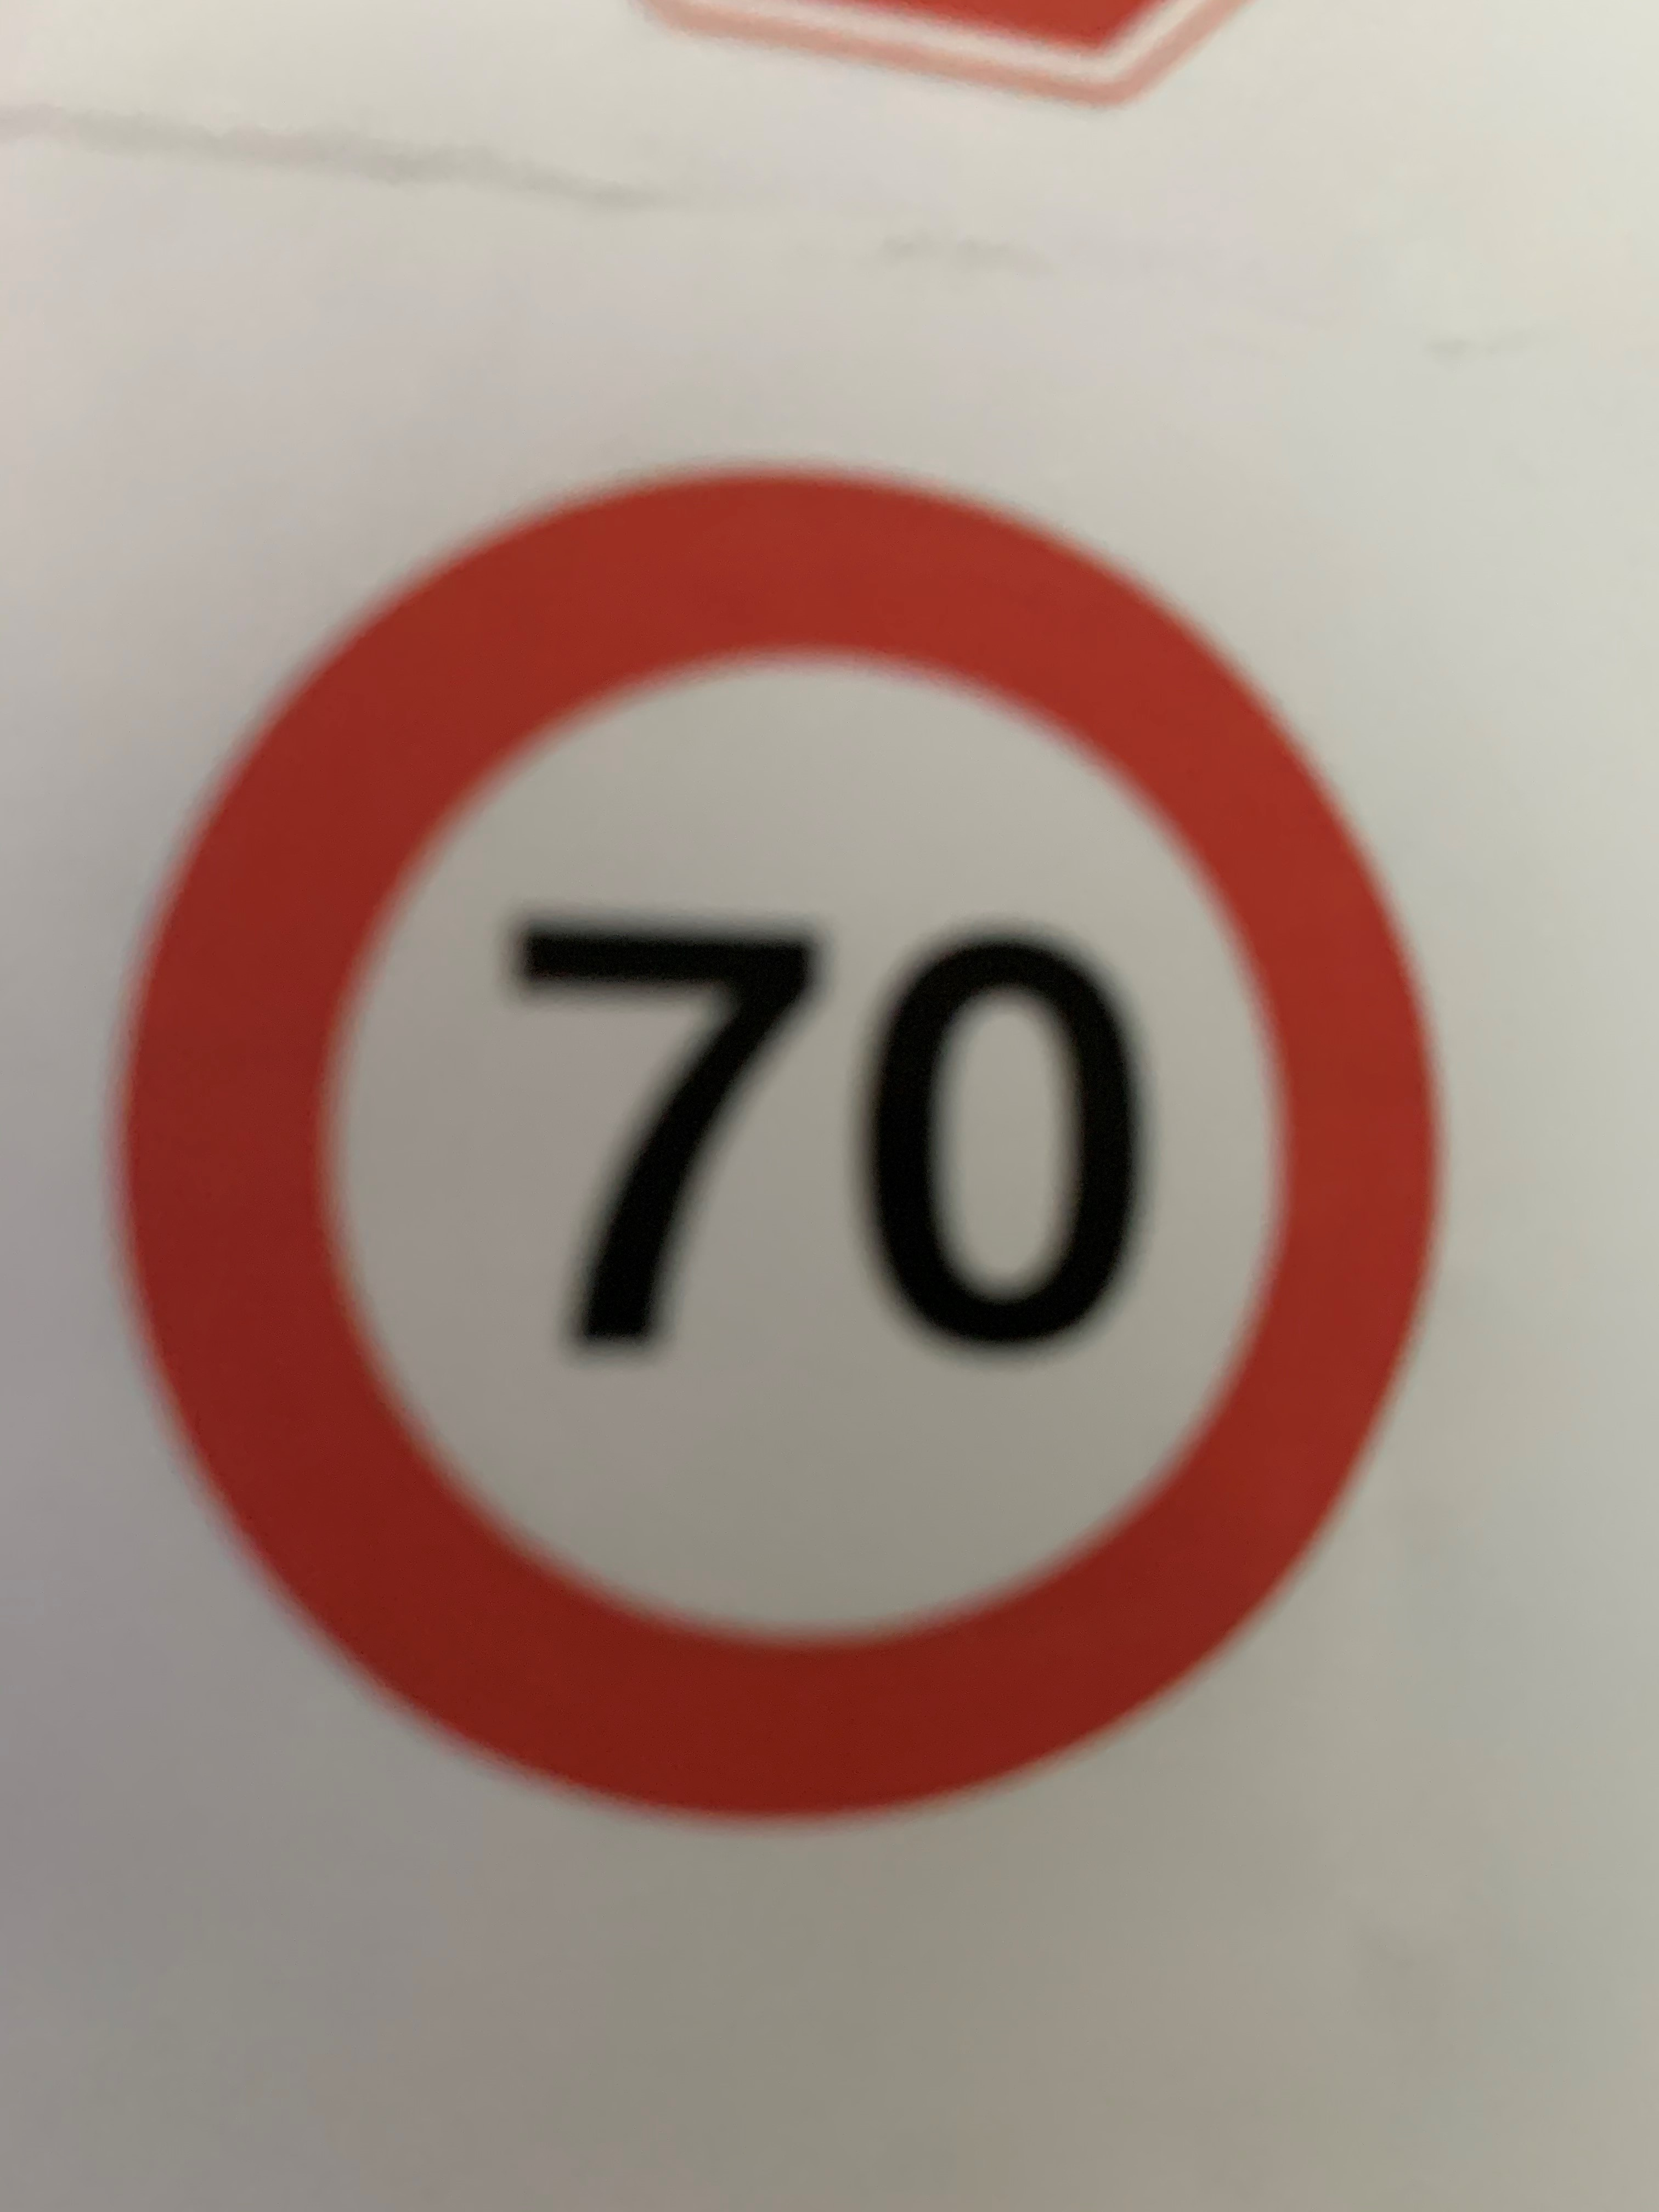70-limit: (45, 474, 1467, 1846)
